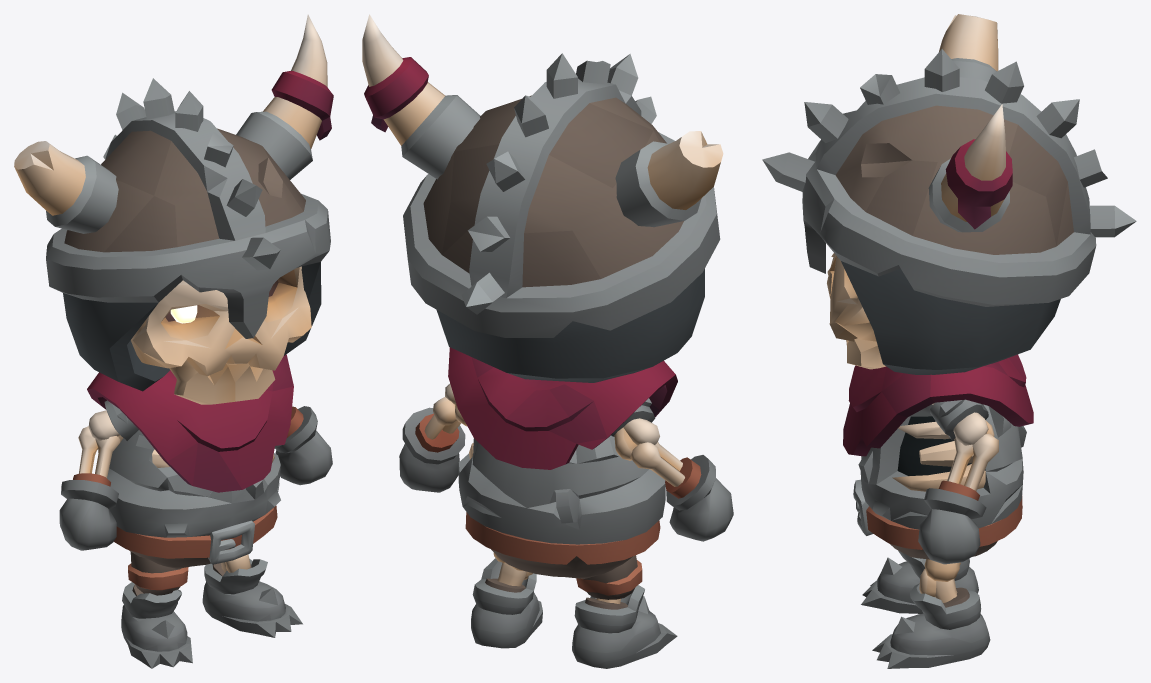
The model's file is skeleton-warrior.glb.
3 renders of one model, left to right at view 1: azimuth 30°, elevation 25°; view 2: azimuth 150°, elevation 25°; view 3: azimuth 270°, elevation 25°, orthographic. The views are drawn at different scales.
Visible parts, largest first — view 1: Skeleton_Warrior_Helmet, Skeleton_Warrior_Body, Skeleton_Warrior_Cloak, Skeleton_Warrior_Head, Skeleton_Warrior_ArmRight, Skeleton_Warrior_LegRight, Skeleton_Warrior_LegLeft, Skeleton_Warrior_Jaw, Skeleton_Warrior_ArmLeft; view 2: Skeleton_Warrior_Helmet, Skeleton_Warrior_Body, Skeleton_Warrior_Cloak, Skeleton_Warrior_LegRight, Skeleton_Warrior_ArmRight, Skeleton_Warrior_LegLeft, Skeleton_Warrior_ArmLeft; view 3: Skeleton_Warrior_Helmet, Skeleton_Warrior_Body, Skeleton_Warrior_Cloak, Skeleton_Warrior_ArmLeft, Skeleton_Warrior_LegLeft, Skeleton_Warrior_LegRight, Skeleton_Warrior_Head, Skeleton_Warrior_Jaw.
Part boxes in pixels (x1,y1,x2,y2): Skeleton_Warrior_Helmet: (14, 14, 333, 391); Skeleton_Warrior_Body: (107, 430, 280, 568); Skeleton_Warrior_Cloak: (87, 354, 293, 492); Skeleton_Warrior_Head: (131, 266, 311, 376); Skeleton_Warrior_ArmRight: (59, 400, 138, 550); Skeleton_Warrior_LegRight: (121, 552, 192, 668); Skeleton_Warrior_LegLeft: (202, 554, 302, 637); Skeleton_Warrior_Jaw: (169, 360, 275, 404); Skeleton_Warrior_ArmLeft: (274, 406, 332, 485); Skeleton_Warrior_Helmet: (362, 14, 723, 382); Skeleton_Warrior_Body: (458, 435, 665, 578); Skeleton_Warrior_Cloak: (448, 347, 677, 469); Skeleton_Warrior_LegRight: (572, 555, 677, 668); Skeleton_Warrior_ArmRight: (611, 398, 733, 541); Skeleton_Warrior_LegLeft: (471, 552, 542, 648); Skeleton_Warrior_ArmLeft: (399, 383, 466, 492); Skeleton_Warrior_Helmet: (762, 14, 1136, 374); Skeleton_Warrior_Body: (853, 404, 1026, 559); Skeleton_Warrior_Cloak: (843, 354, 1033, 456); Skeleton_Warrior_ArmLeft: (918, 399, 998, 564); Skeleton_Warrior_LegLeft: (872, 559, 990, 668); Skeleton_Warrior_LegRight: (861, 550, 978, 613); Skeleton_Warrior_Head: (827, 253, 876, 341); Skeleton_Warrior_Jaw: (846, 338, 885, 369).
Bounding box in the file's own units: 1.52 × 2.57 × 1.46.
2 materials, 1 textured.
